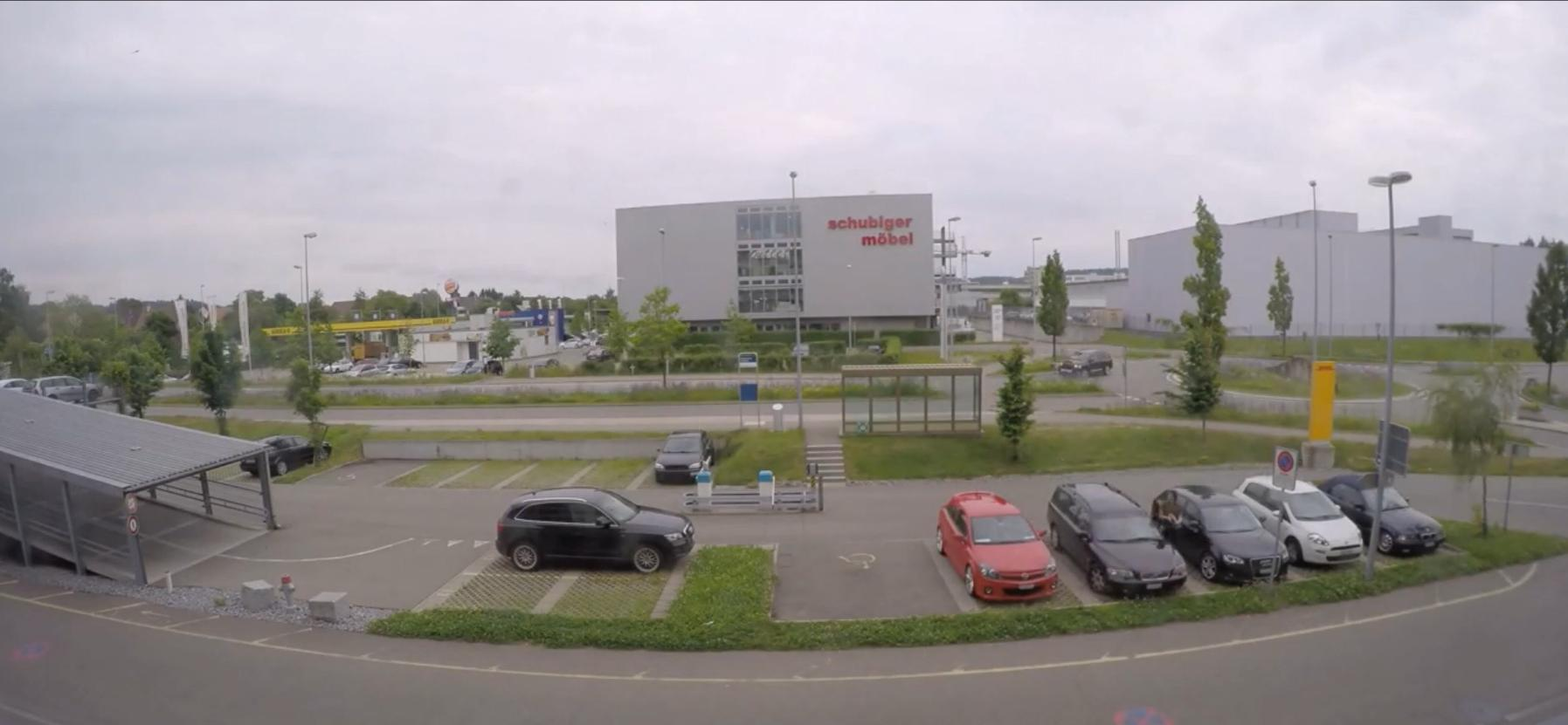free: (1317, 473, 1446, 555)
